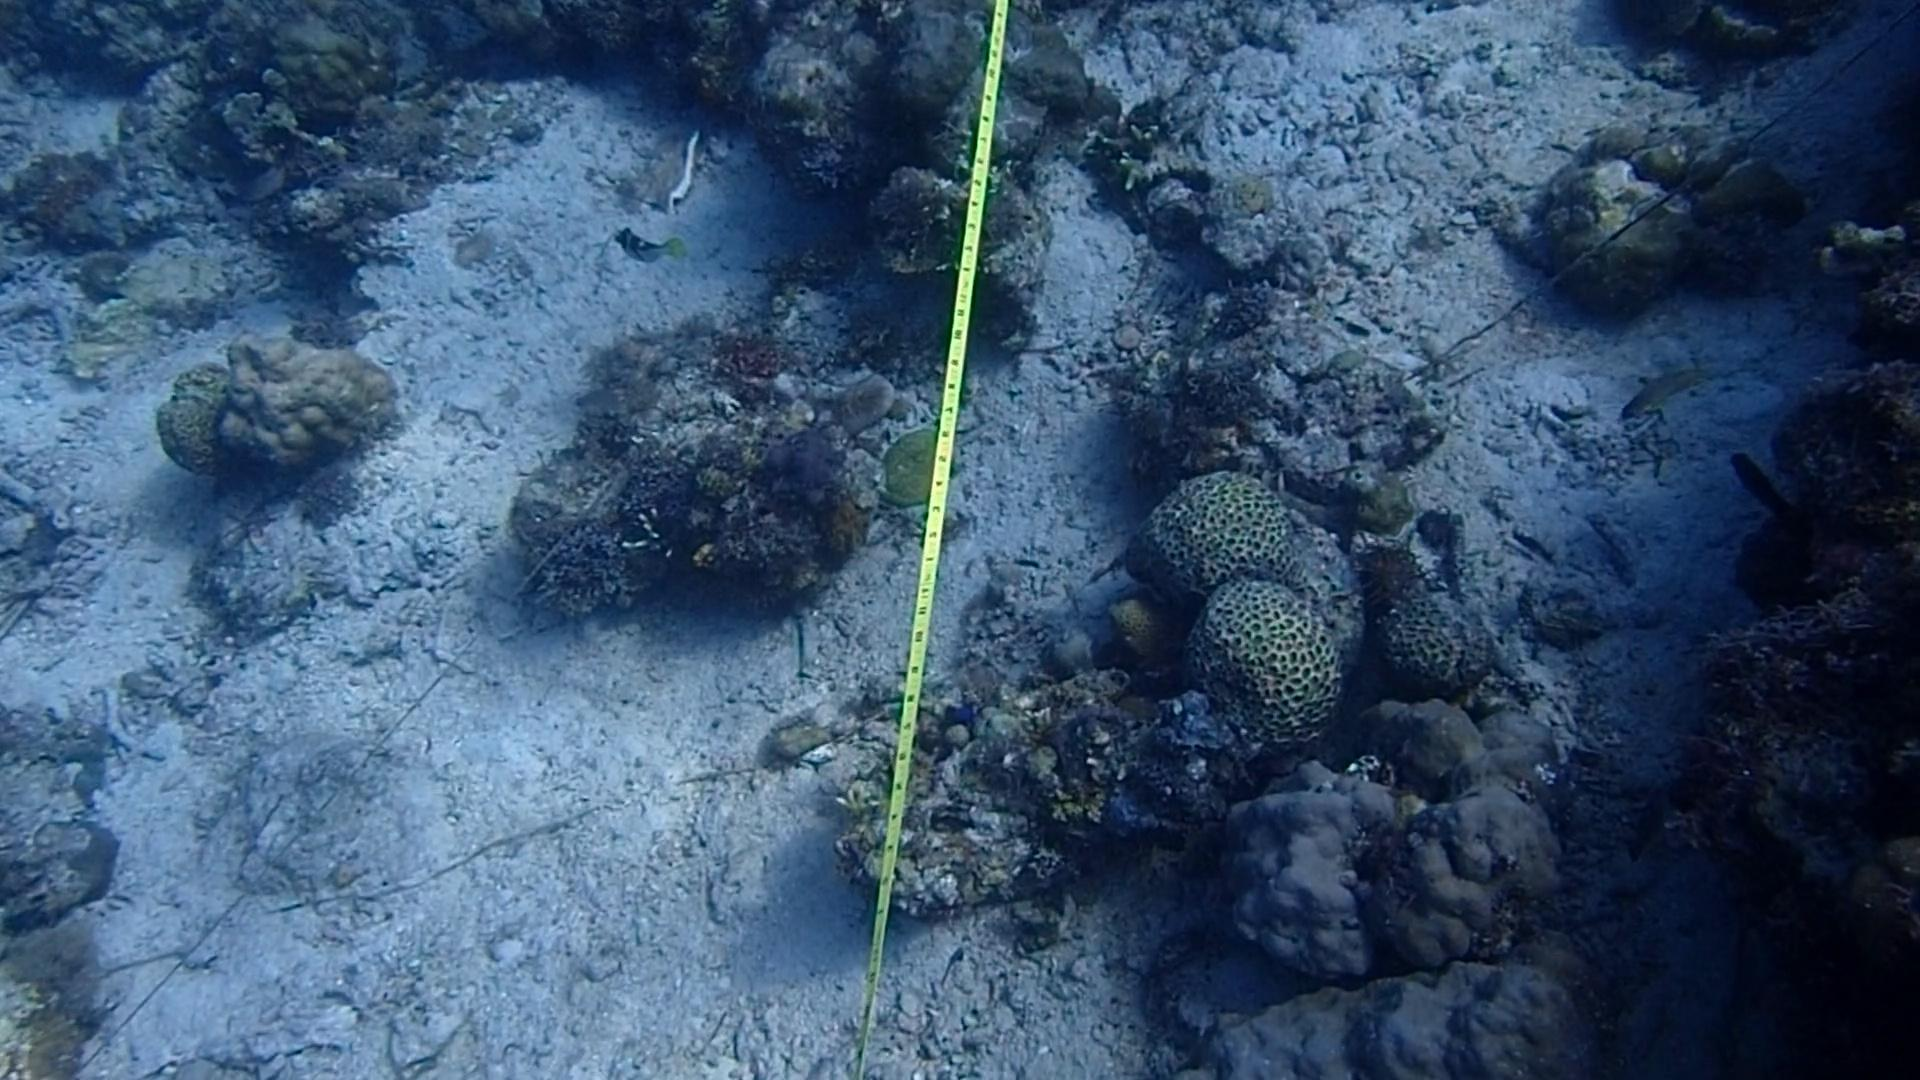Striped Fish: (604, 218, 687, 274)
